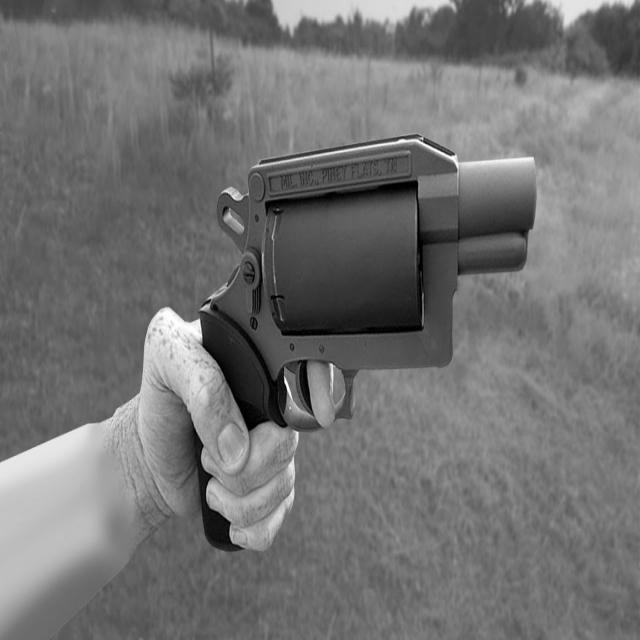Hand-Gun: (202, 105, 550, 582)
